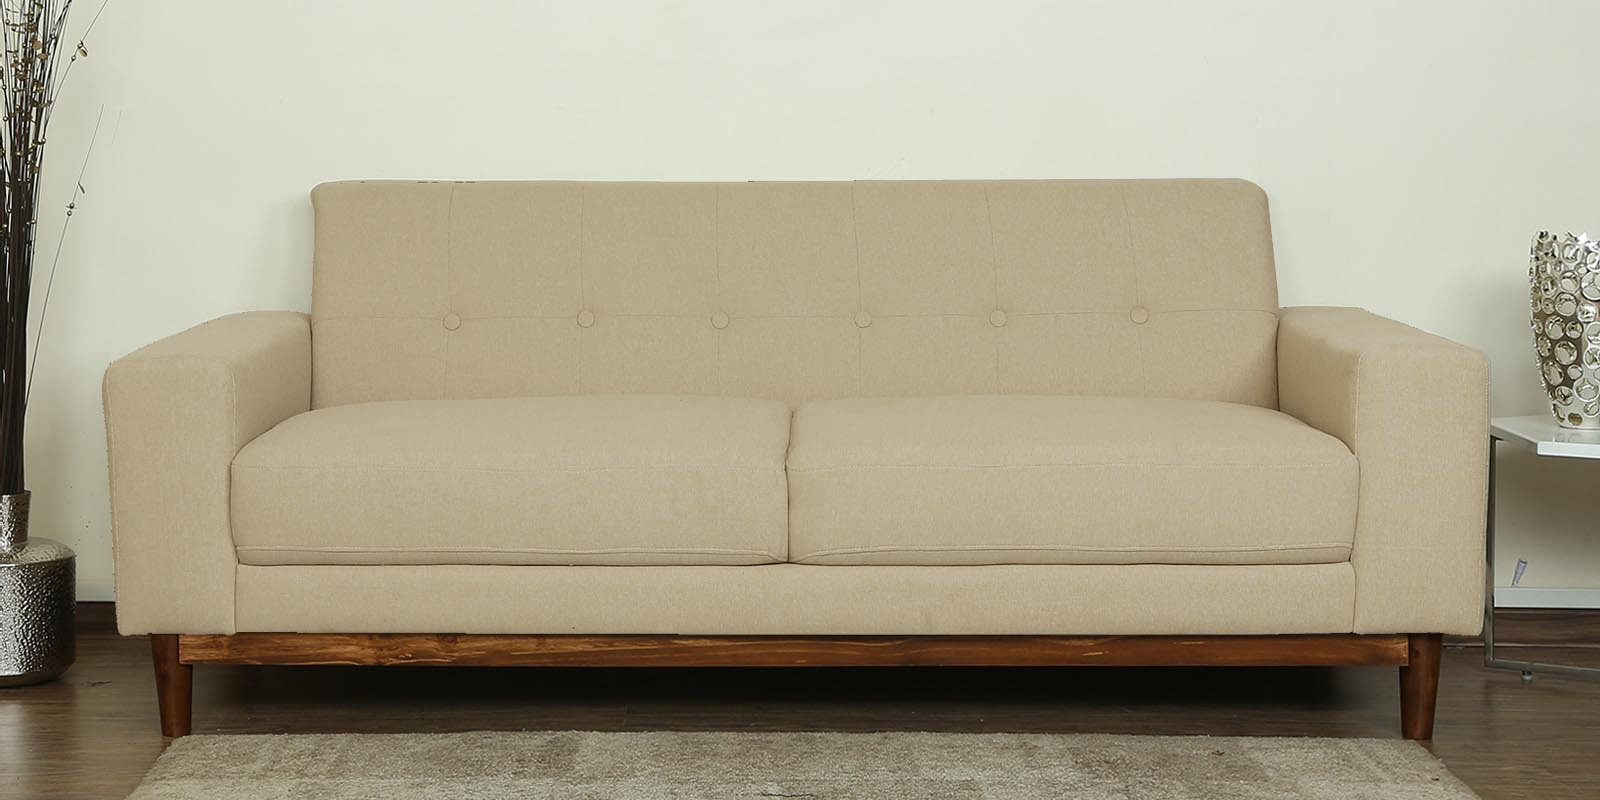Cordoba Three Seater Sofa in Beige Colour by CasaCraft: (99, 163, 1494, 755)
